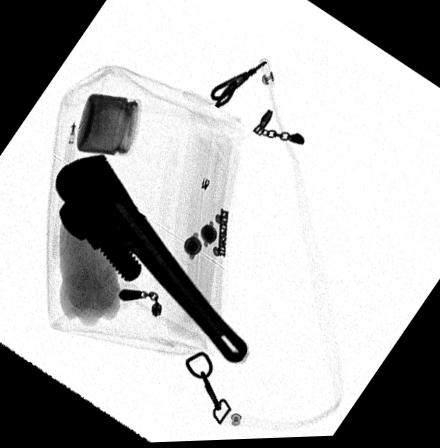Wrench: (54, 154, 247, 369)
